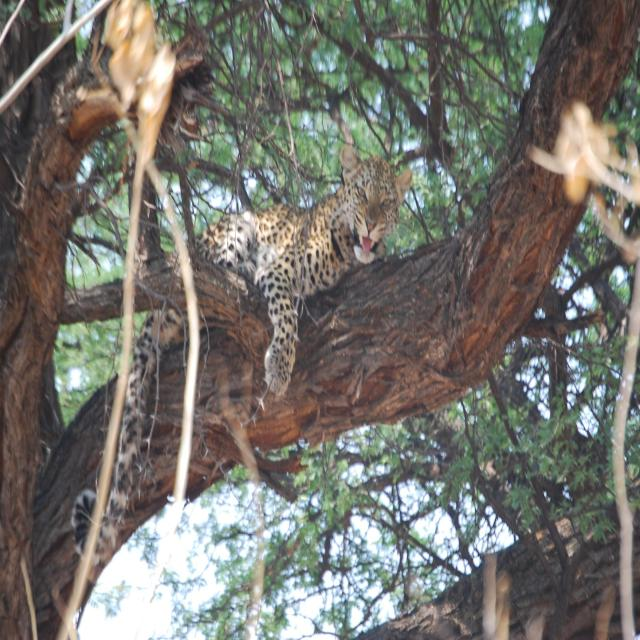Leopard: (36, 140, 418, 590)
